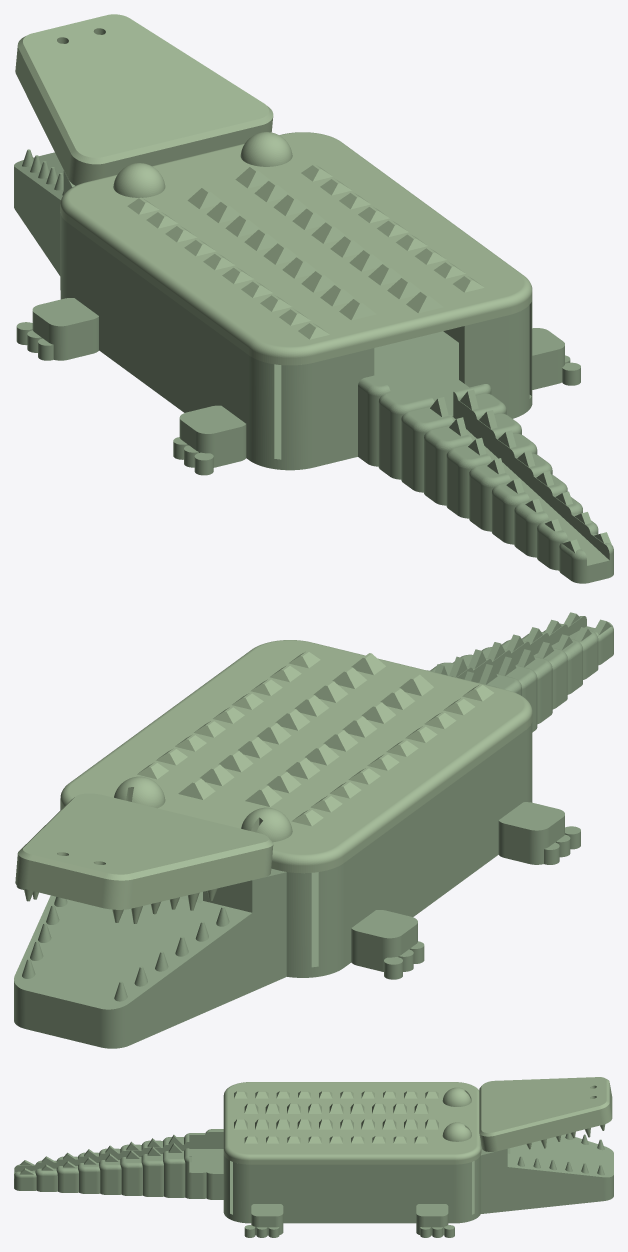
The model's file is gator_case.glb.
3 views of the same model, one above another, from view 1: azimuth 30°, elevation 25°; view 2: azimuth 150°, elevation 25°; view 3: azimuth 270°, elevation 25° (orthographic). The views are drawn at different scales.
Visible parts, largest first — view 1: gator_base, gator_lid, gator_upper_jaw; view 2: gator_base, gator_lid, gator_upper_jaw; view 3: gator_base, gator_lid, gator_upper_jaw.
Boxes of the visible parts, x1=… form: gator_base: x1=14, y1=149, x2=613, y2=583; gator_lid: x1=60, y1=132, x2=532, y2=365; gator_upper_jaw: x1=15, y1=14, x2=273, y2=185; gator_base: x1=14, y1=612, x2=613, y2=1048; gator_lid: x1=60, y1=640, x2=532, y2=873; gator_upper_jaw: x1=15, y1=793, x2=273, y2=923; gator_base: x1=14, y1=1129, x2=613, y2=1237; gator_lid: x1=223, y1=1082, x2=481, y2=1164; gator_upper_jaw: x1=479, y1=1077, x2=612, y2=1151.
Bounding box in the file's own units: 0.0935 × 0.0395 × 0.2259.
